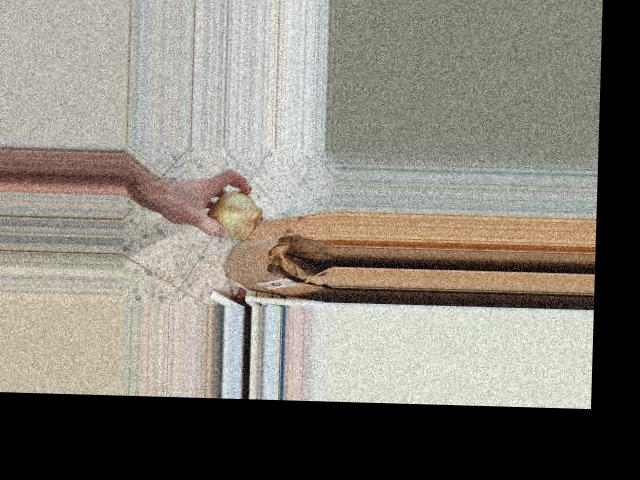onion: (199, 189, 262, 240)
